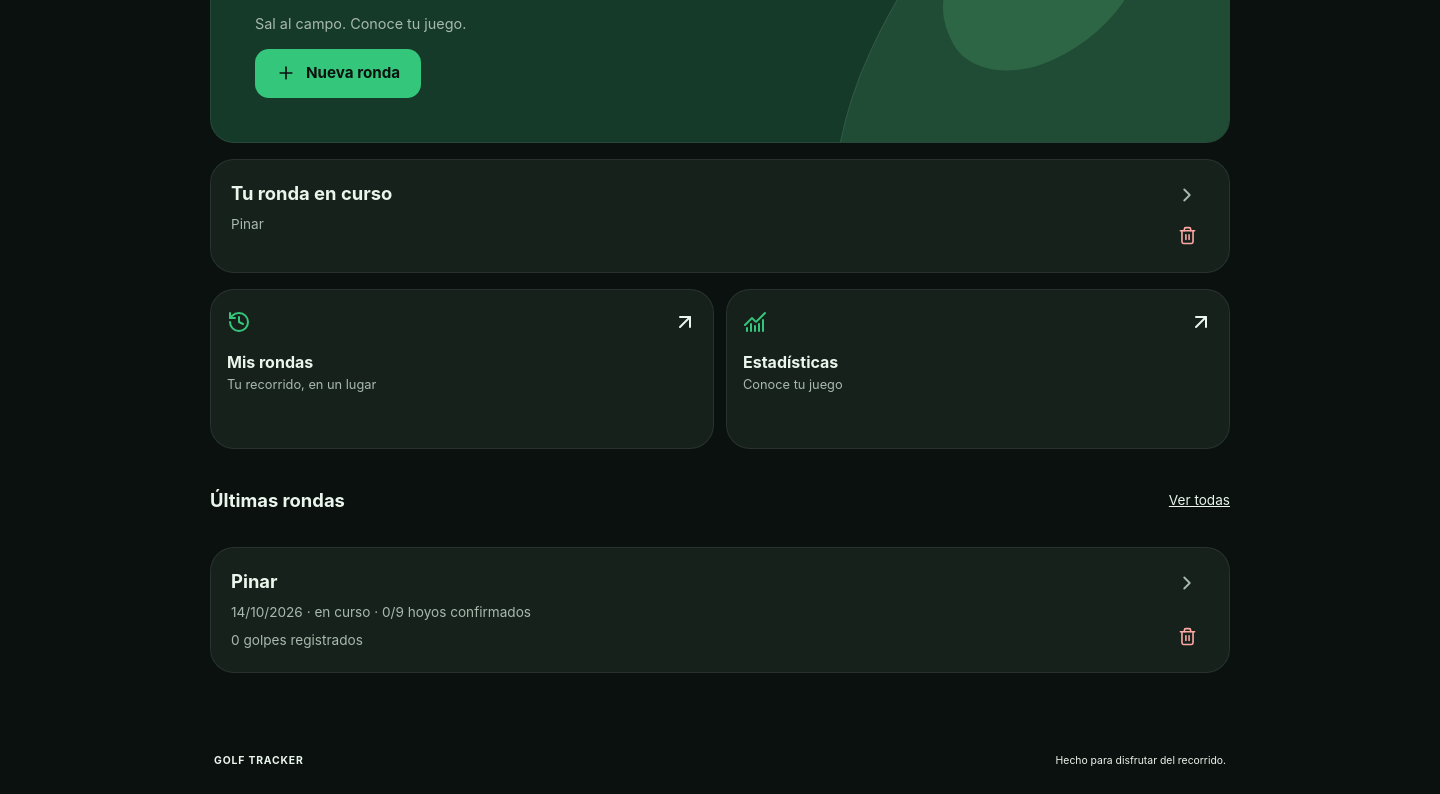
Test: Tarjetas pulsables en / › papelera independiente, cancelación y eliminación actualizan la lista
(page scrolled)
Click the button named "Eliminar ronda Pinar" in the row of "hoyos confirmados". click: (1187, 636)
box: [1165,614,1209,658]
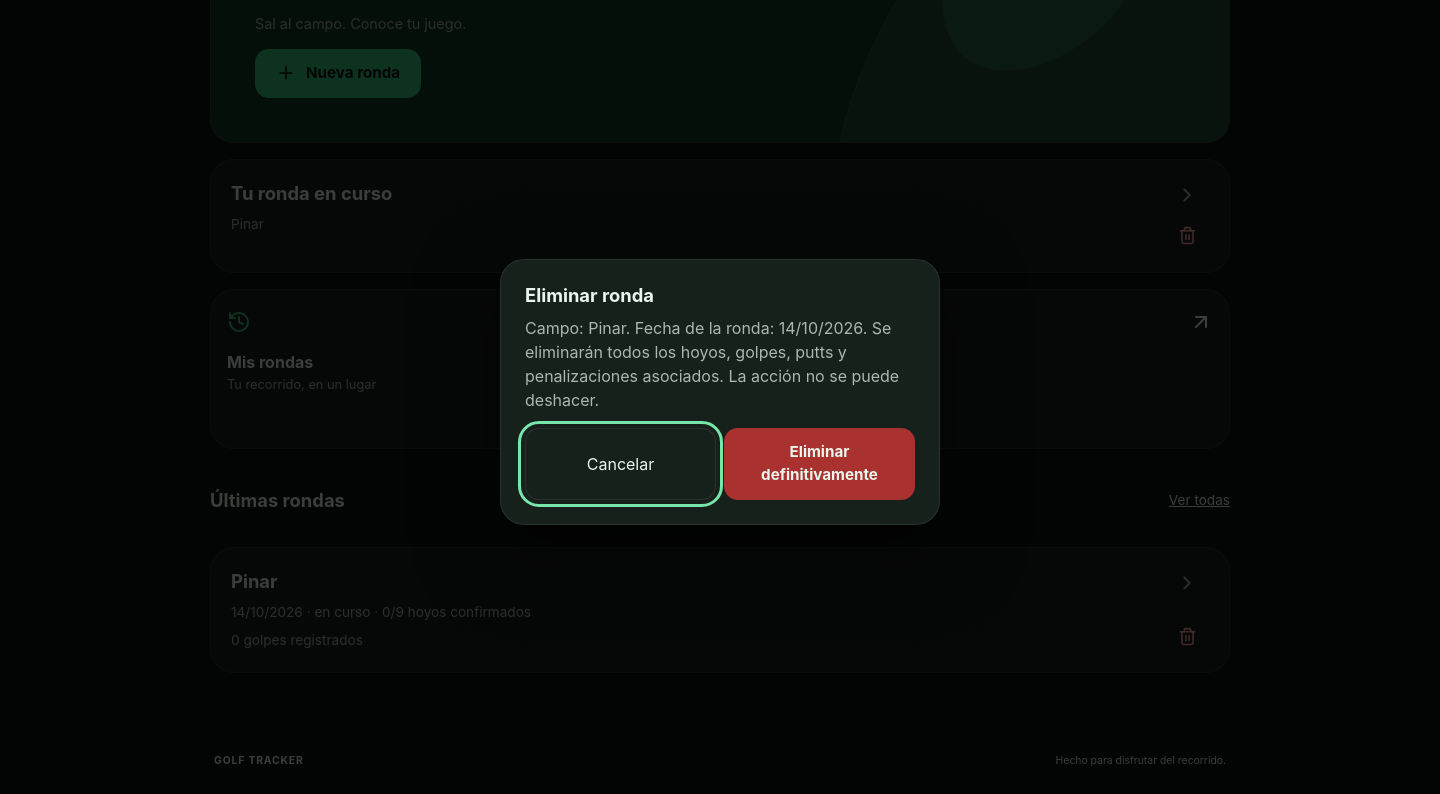
Click the button "Cancelar". click: (620, 464)
box: [525,428,716,500]
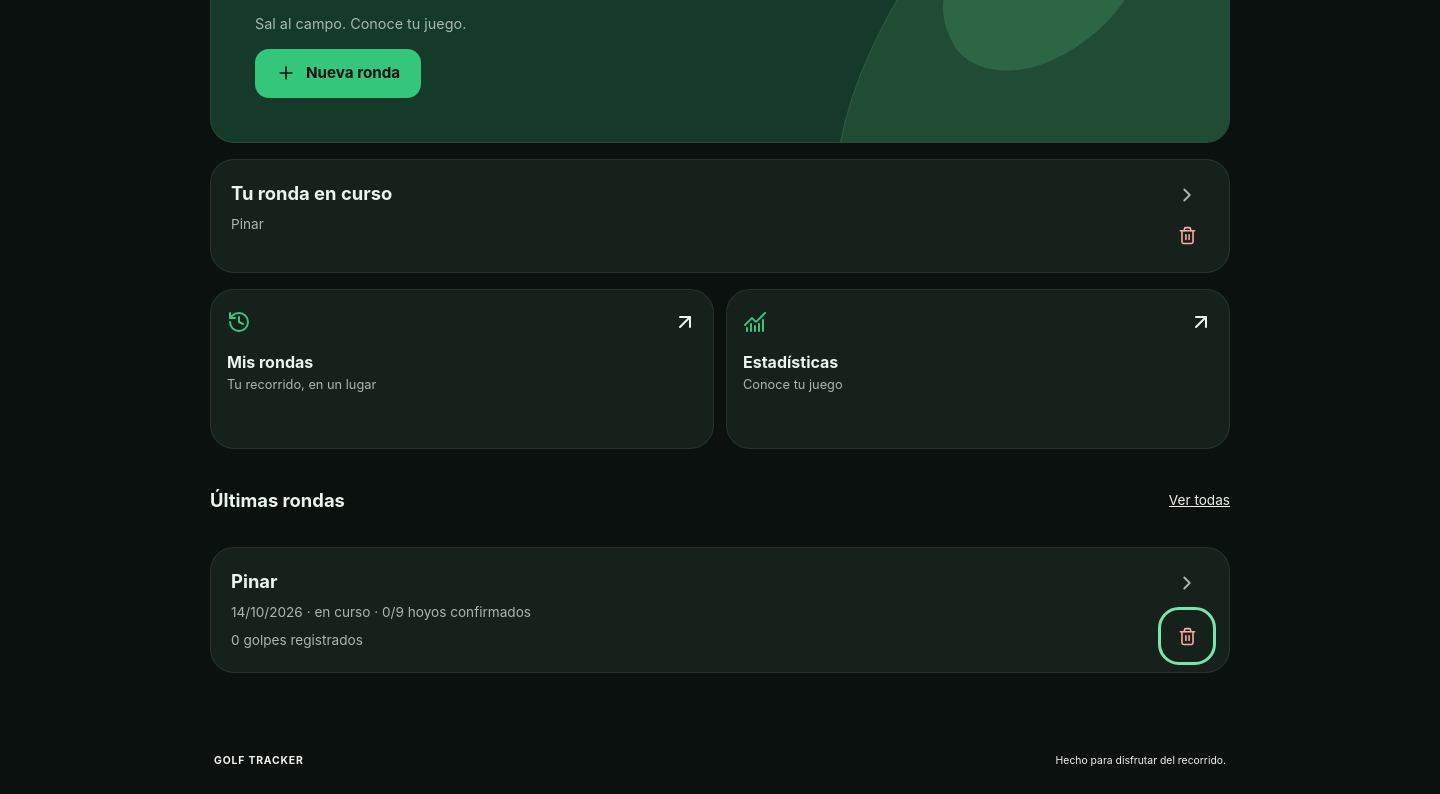
Click the button named "Eliminar ronda Pinar" in the row of "hoyos confirmados". click: (1187, 636)
box: [1165,614,1209,658]
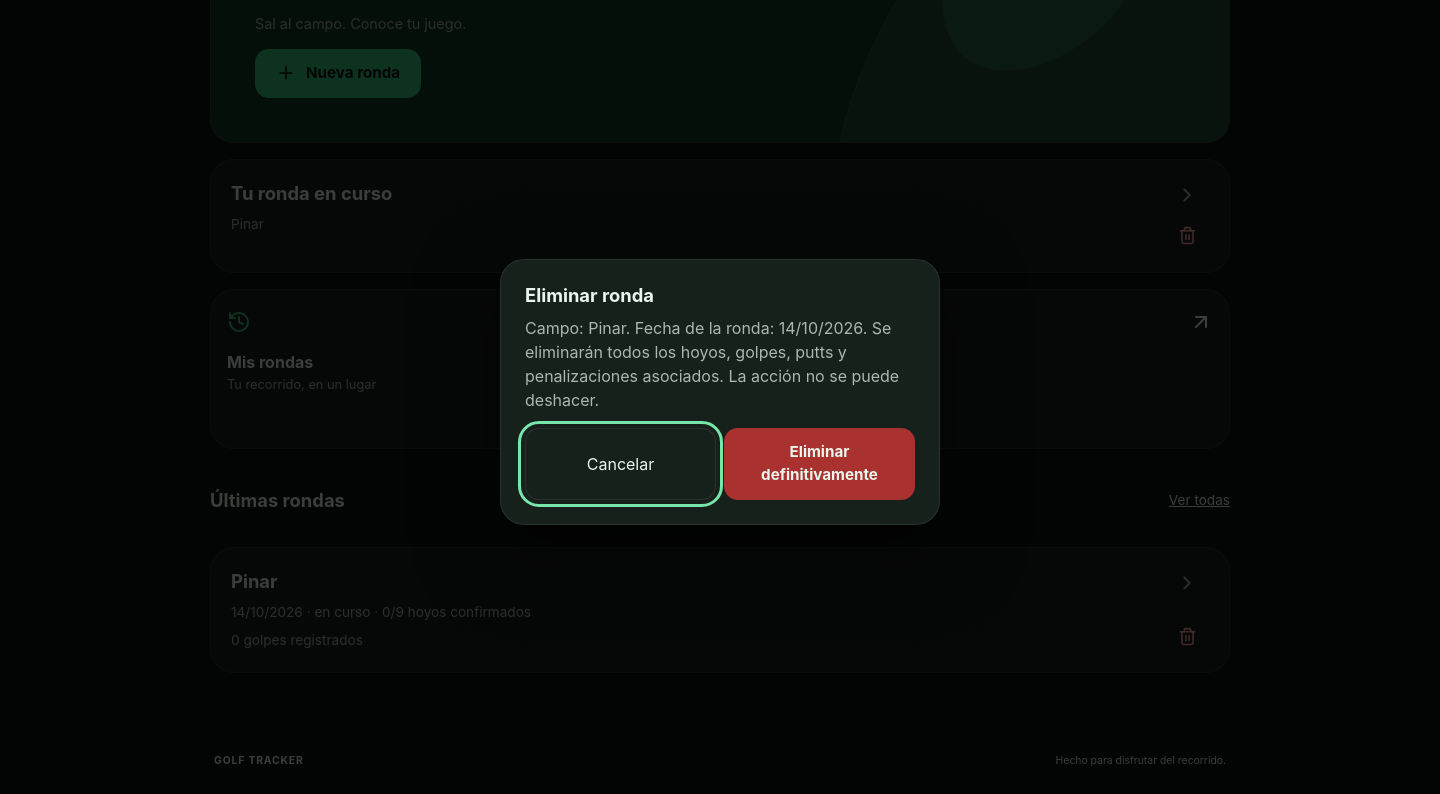
Click the button "Eliminar definitivamente". click: (820, 464)
box: [724,428,915,500]
(page scrolled)
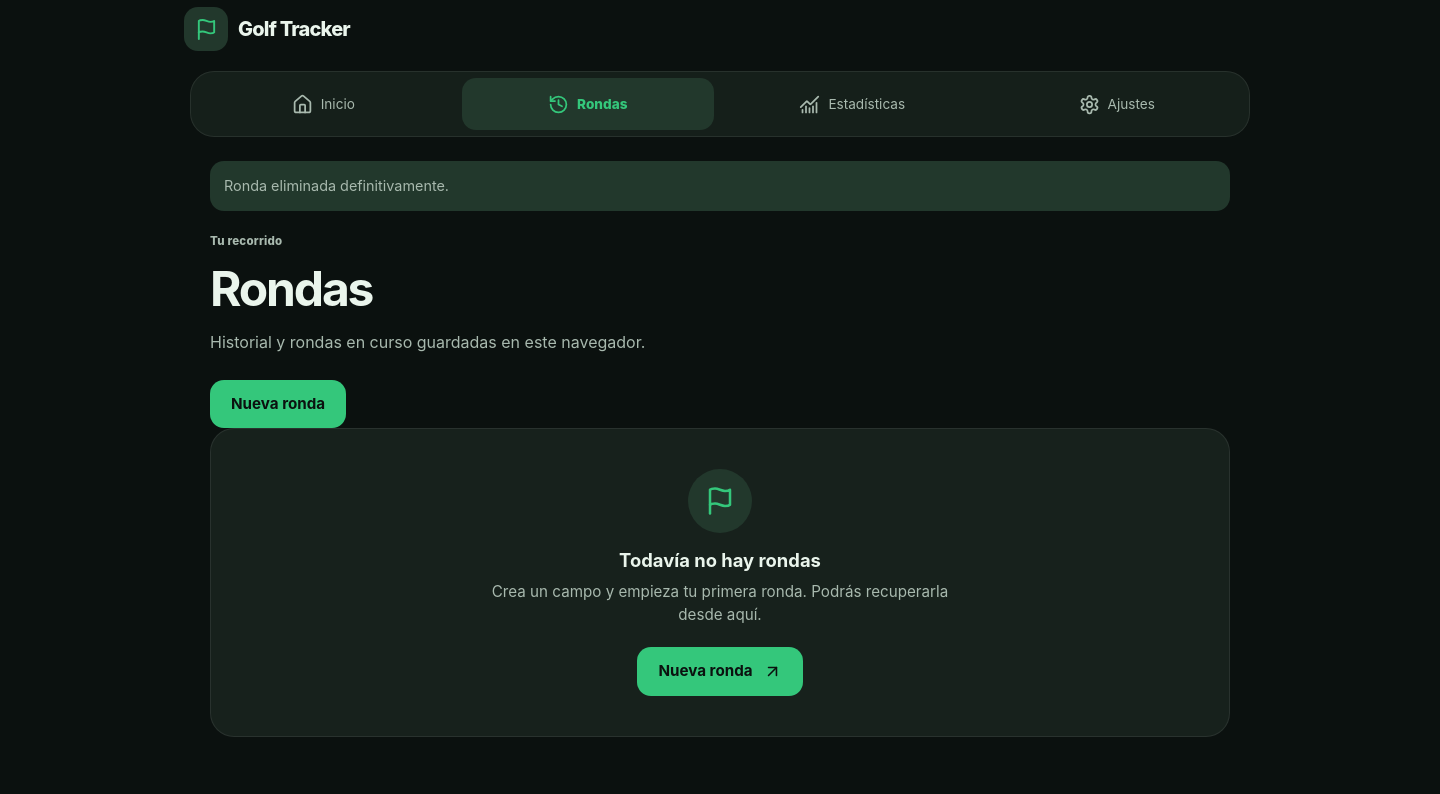
Result: the text "Ronda eliminada definitivamente." is shown at [210,161,1230,211]
Result: the heading "Todavía no hay rondas" is shown at [619,549,821,571]
